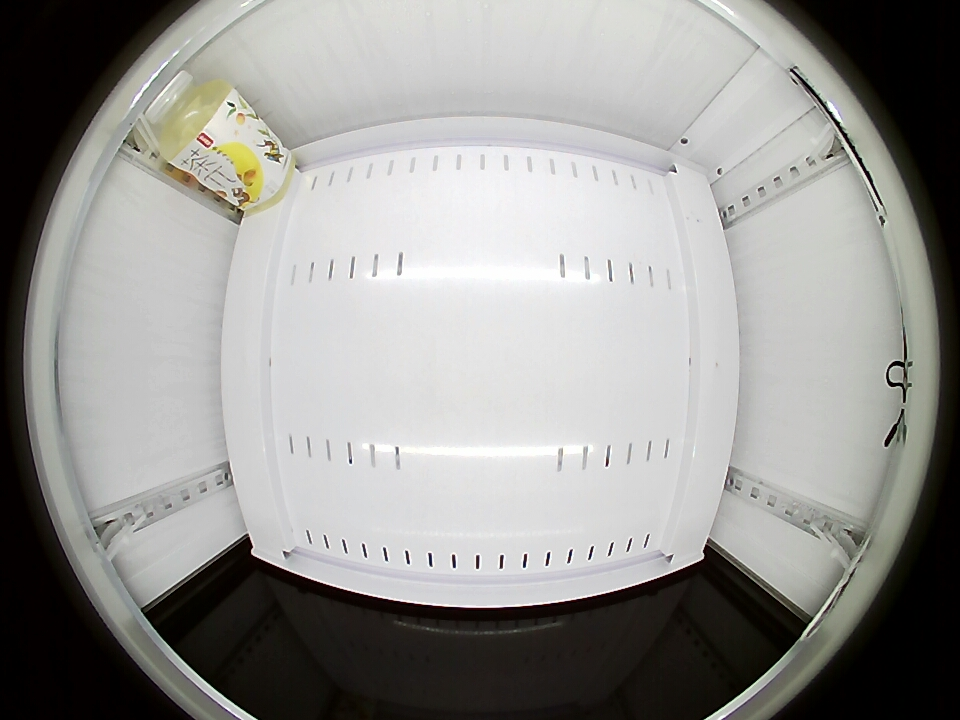rancha-2: (149, 71, 236, 169)
